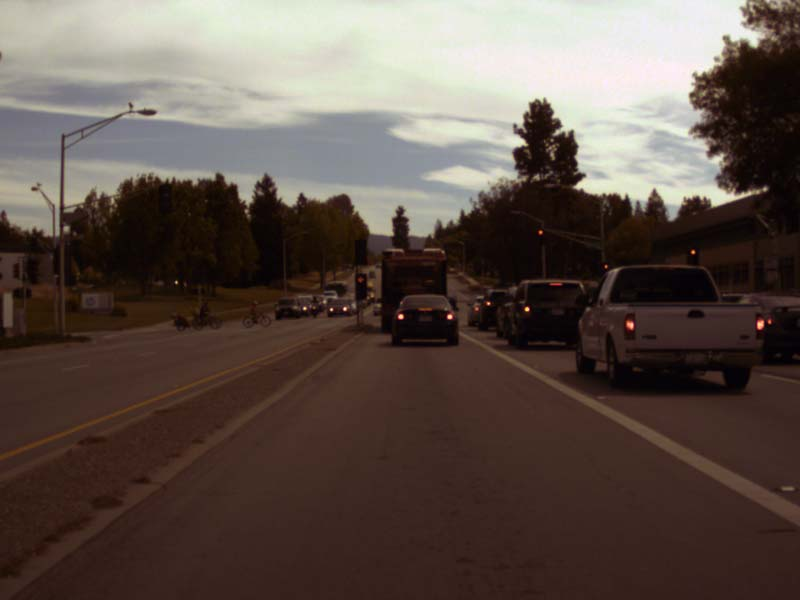Red: (356, 274, 365, 298), (688, 249, 696, 270), (538, 229, 542, 240), (603, 264, 607, 273)
